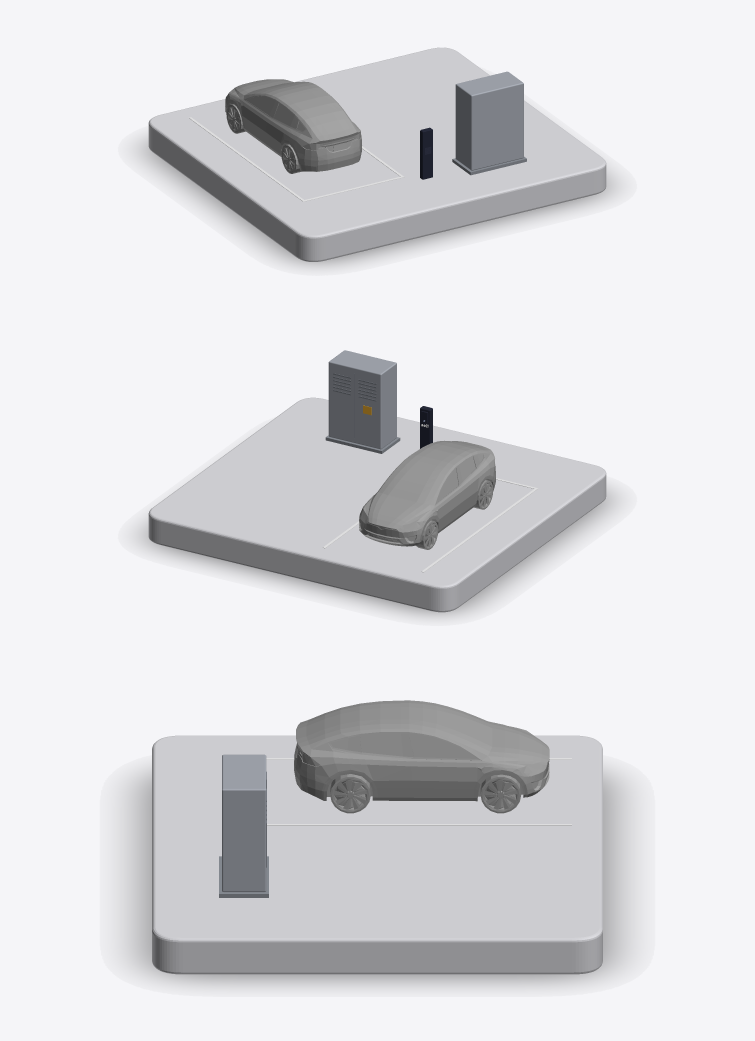
The model's file is sett-scroll-keuze-batterijkast.glb.
3 views of the same model, one above another, from view 1: azimuth 30°, elevation 25°; view 2: azimuth 150°, elevation 25°; view 3: azimuth 270°, elevation 25° (orthographic). The views are drawn at different scales.
Visible parts, largest first — view 1: object 1, scroll_drive, object 5, contact_shadow, Charge_pole; view 2: object 1, scroll_drive, object 5, contact_shadow; view 3: object 1, scroll_drive, contact_shadow, object 5, object 22.
Boxes of the visible parts, bbox=[...] form: object 1: bbox=[148, 47, 606, 261]; scroll_drive: bbox=[225, 79, 361, 173]; object 5: bbox=[455, 71, 523, 170]; contact_shadow: bbox=[142, 141, 612, 265]; Charge_pole: bbox=[420, 127, 432, 179]; object 1: bbox=[148, 397, 606, 612]; scroll_drive: bbox=[359, 440, 495, 549]; object 5: bbox=[328, 350, 396, 449]; contact_shadow: bbox=[142, 491, 612, 615]; object 1: bbox=[152, 735, 602, 974]; scroll_drive: bbox=[294, 700, 549, 813]; contact_shadow: bbox=[131, 772, 623, 983]; object 5: bbox=[222, 754, 266, 892]; object 22: bbox=[267, 824, 571, 825].
Bounding box in the file's own units: 1308 × 285 × 1308.
12 materials, 1 textured.
